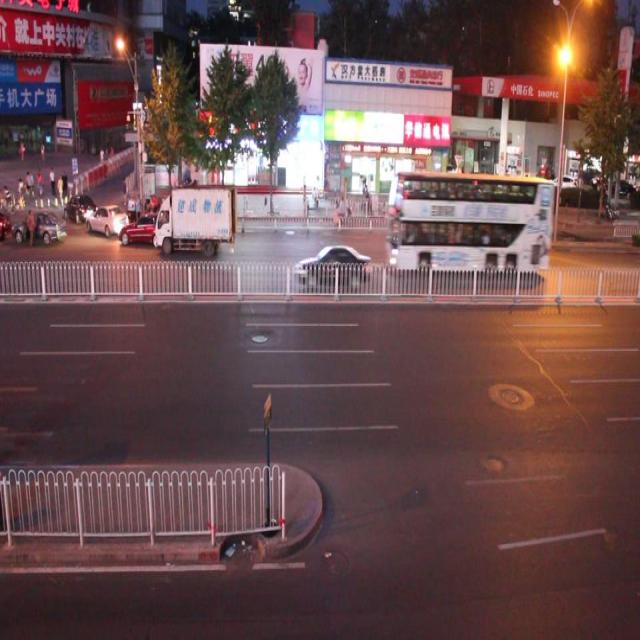bus: (153, 184, 240, 259)
car: (293, 240, 371, 291), (120, 210, 182, 251), (13, 204, 69, 248), (86, 200, 129, 242), (64, 190, 97, 225)
van: (387, 170, 553, 277)
